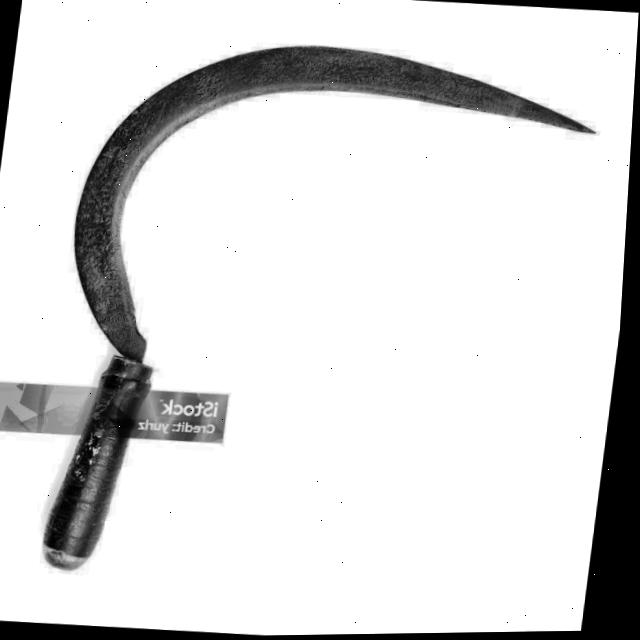celurit: (22, 37, 616, 577)
